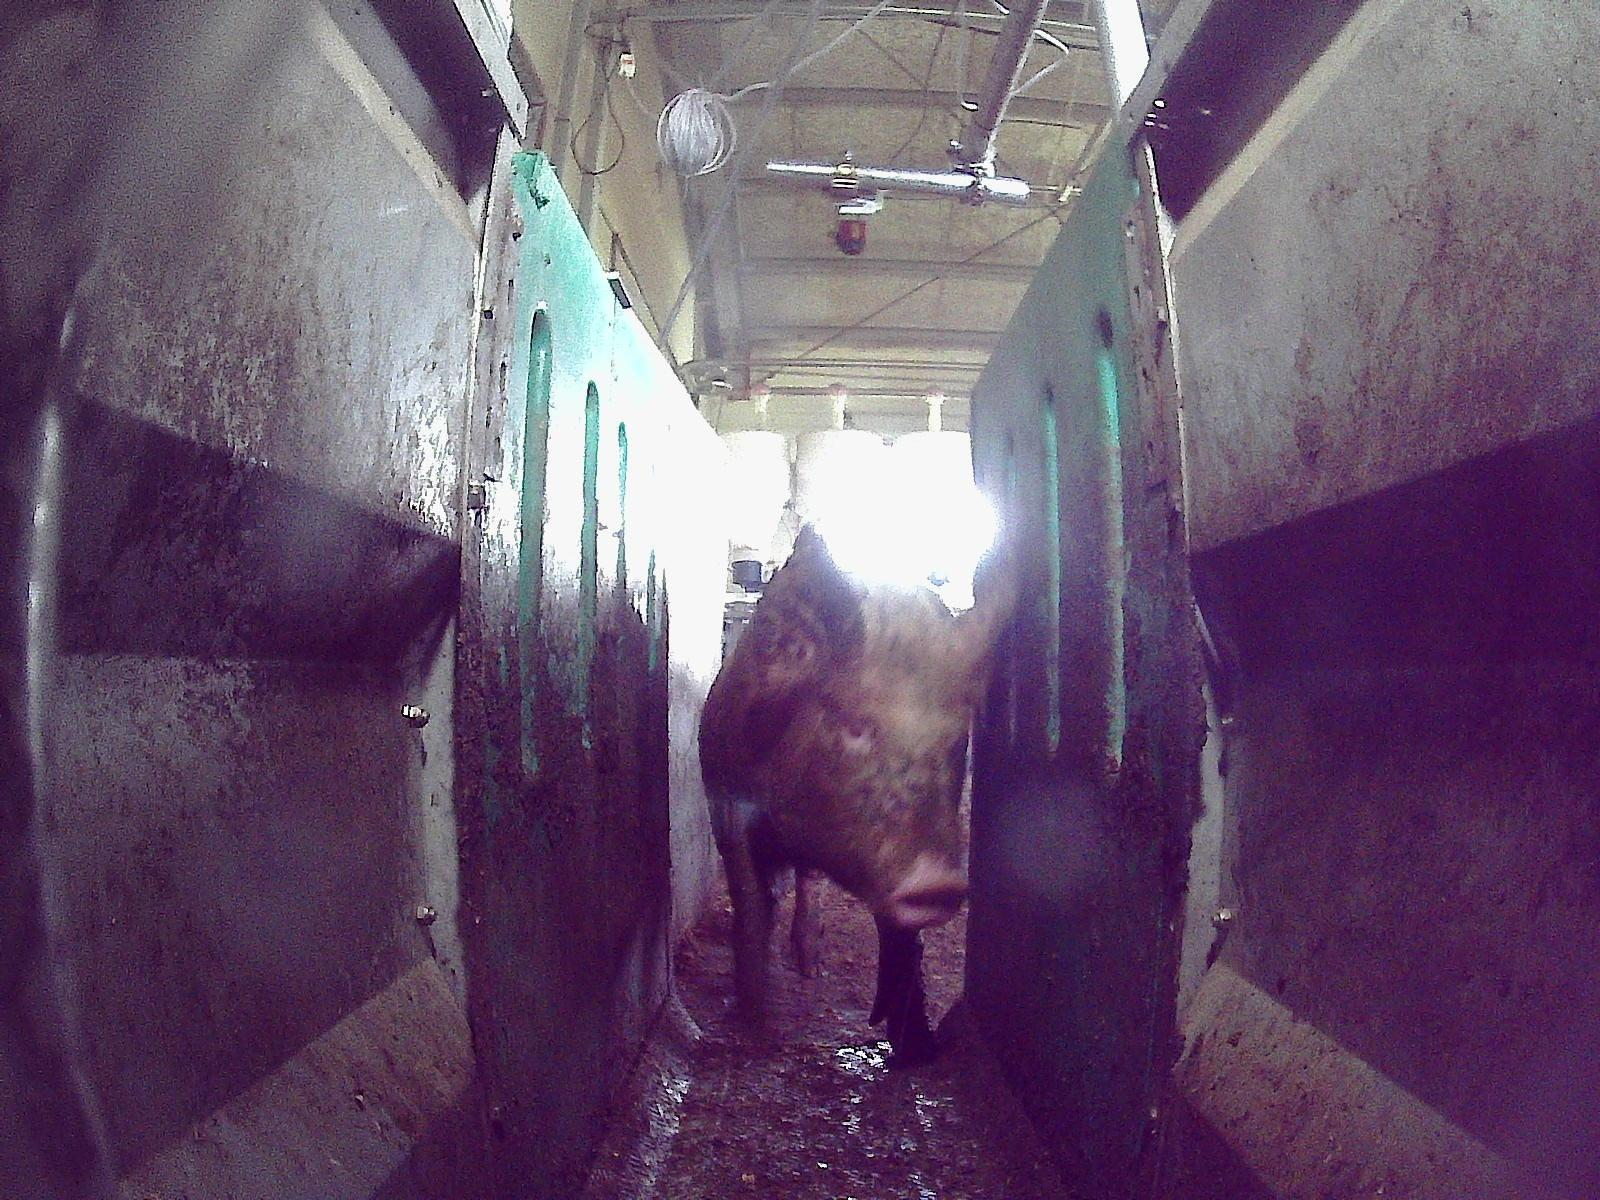Face: (779, 657, 971, 929)
